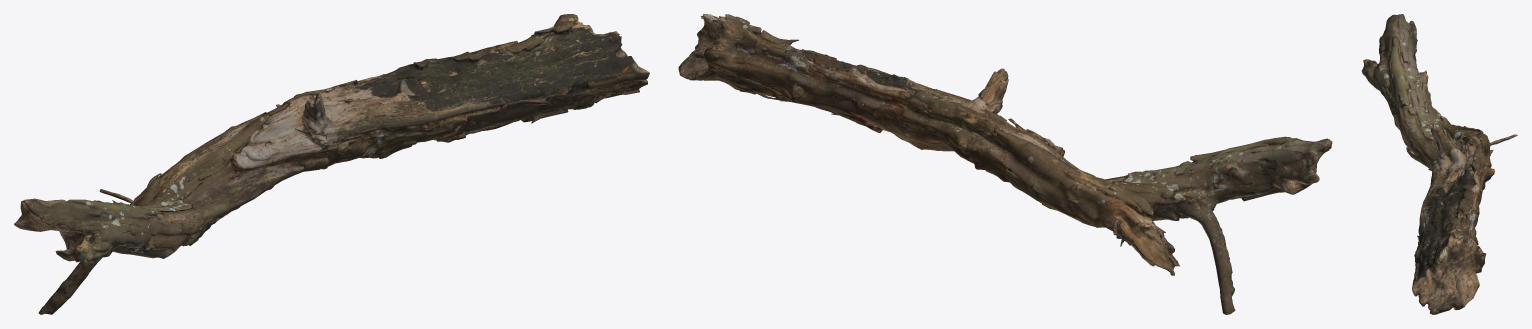
Rendered from dead_tree_trunk_02_preview.glb.
3 views of the same model, side by side, from view 1: azimuth 30°, elevation 25°; view 2: azimuth 150°, elevation 25°; view 3: azimuth 270°, elevation 25° (orthographic). The views are drawn at different scales.
Parts seen in each view (by area): view 1: dead_tree_trunk_02; view 2: dead_tree_trunk_02; view 3: dead_tree_trunk_02.
Boxes of the visible parts, box(x1,y1,x2,y2) form: dead_tree_trunk_02: box(14, 14, 649, 314); dead_tree_trunk_02: box(678, 14, 1332, 314); dead_tree_trunk_02: box(1361, 14, 1517, 314).
Size of the model in its own units: 4.05 by 1.05 by 1.05.
Materials: 1 (1 with a texture image).
